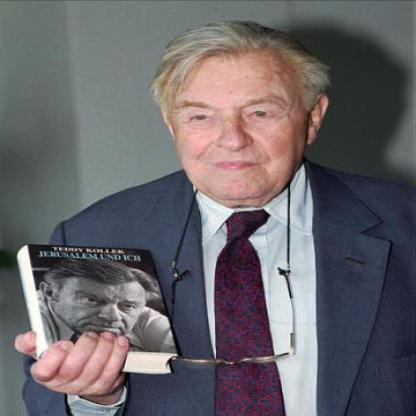face: (167, 28, 309, 208), (54, 262, 150, 343)
